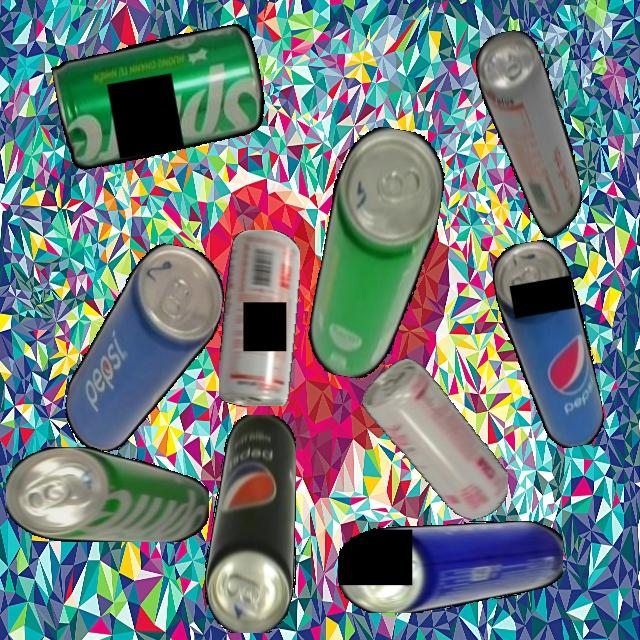debris: (59, 232, 231, 466), (302, 121, 452, 387), (50, 22, 271, 172), (488, 235, 608, 455), (471, 24, 588, 245), (362, 359, 508, 519), (338, 520, 563, 613), (204, 414, 296, 633), (6, 446, 209, 542), (218, 230, 300, 406)
